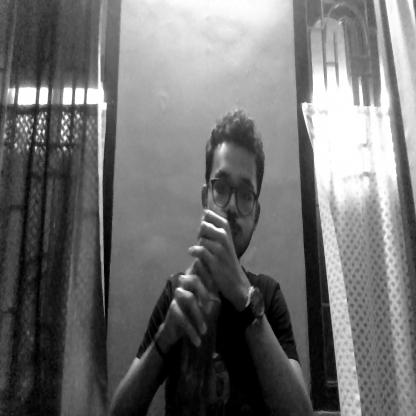Normal: (204, 78, 278, 294)
